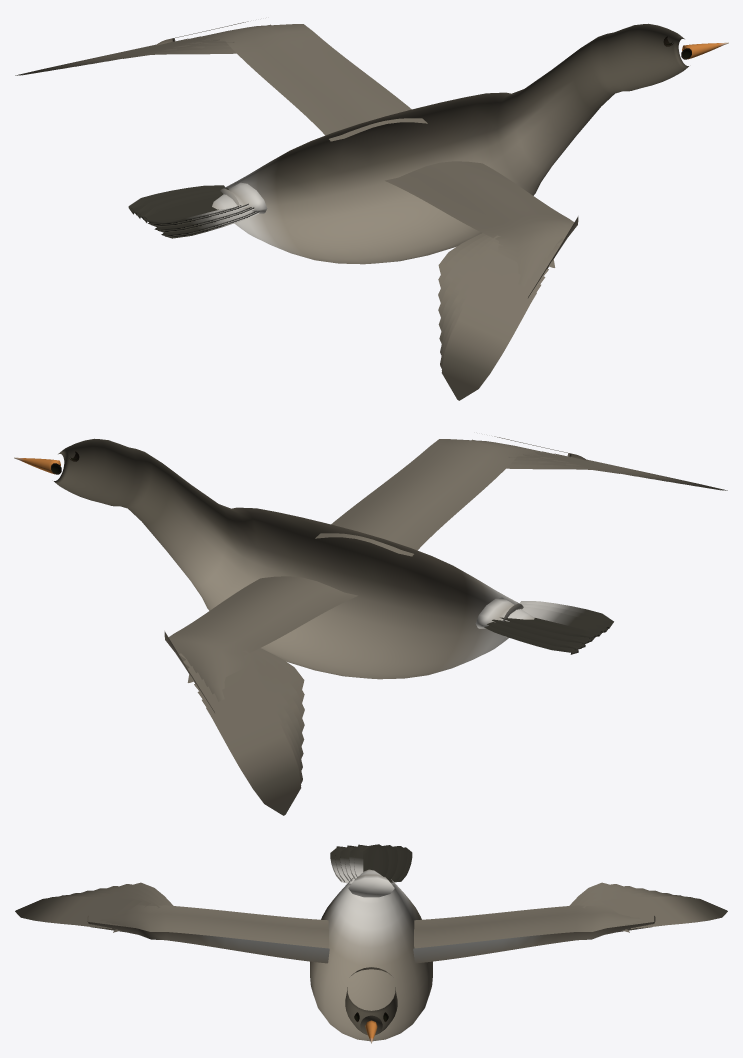
File: SM_Bird_goose_flap3.glb
3 views of the same model, one above another, from view 1: azimuth 30°, elevation 25°; view 2: azimuth 150°, elevation 25°; view 3: azimuth 270°, elevation 25° (orthographic). The views are drawn at different scales.
Visible parts, largest first — view 1: SM_Bird_goose_flap3; view 2: SM_Bird_goose_flap3; view 3: SM_Bird_goose_flap3.
Part boxes in pixels (left/top/right/bottom): SM_Bird_goose_flap3: left=15, top=21, right=728, bottom=400; SM_Bird_goose_flap3: left=14, top=436, right=727, bottom=815; SM_Bird_goose_flap3: left=15, top=844, right=727, bottom=1043.
Size of the model in its own units: 0.876 by 0.2394 by 1.17.
